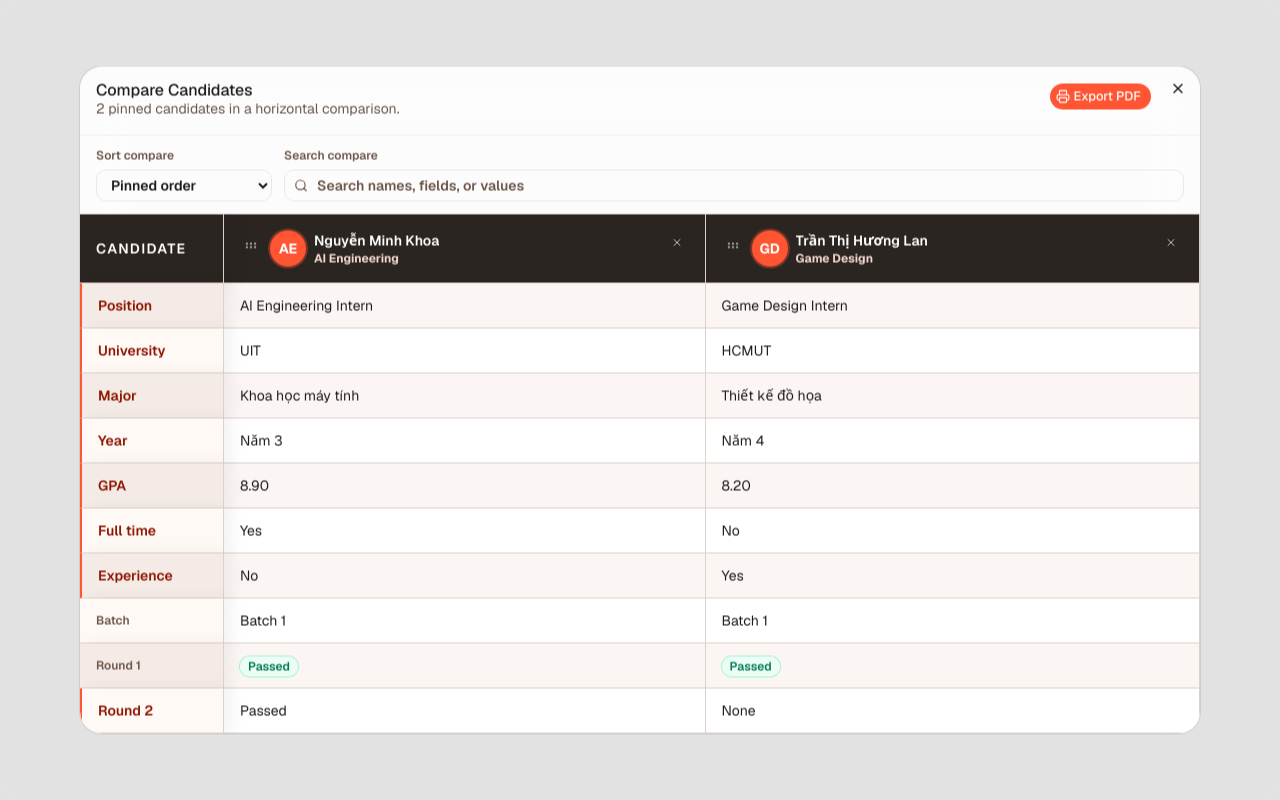
it: CompareDialog › filters compare rows and highlights search matches
This screenshot has width=1280, height=800.
In the field labelled "Search compare": (734, 186) [284, 170, 1184, 202], type "Full"
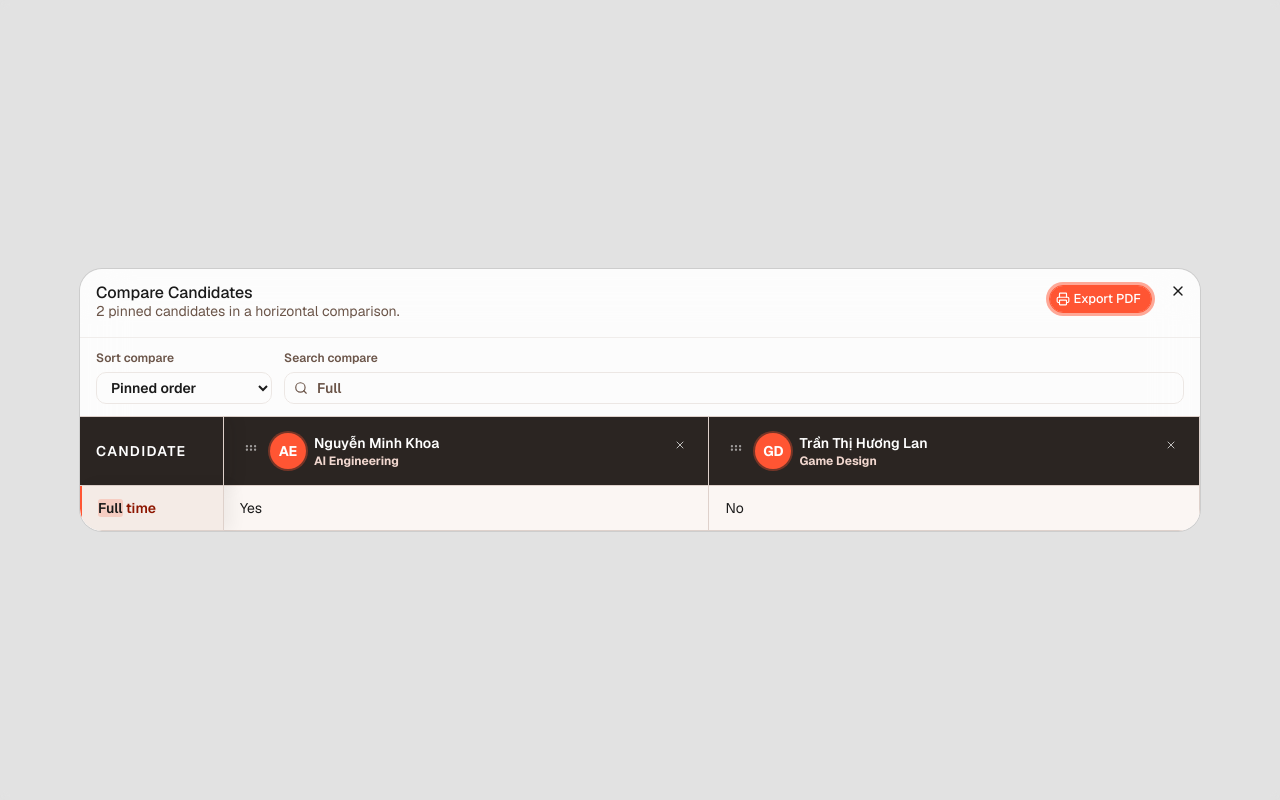
Expected: the text "Full" is shown, [98, 499, 122, 517]
Expected: the text "Major" is gone
